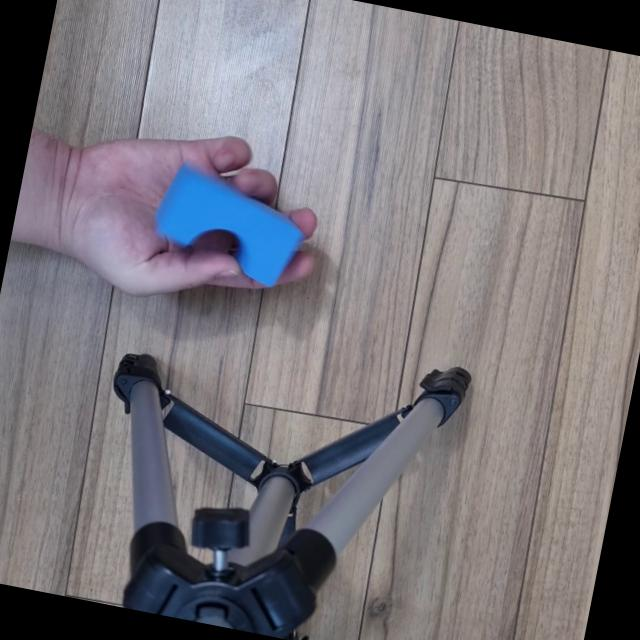block: (150, 166, 312, 290)
hand: (29, 89, 350, 380)
